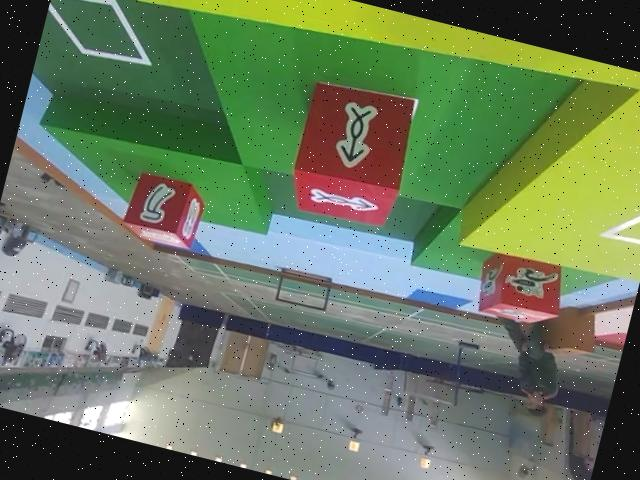R1: (469, 242, 574, 336)
R2 Fake: (116, 166, 212, 257)
R2 Real: (278, 72, 426, 238)
